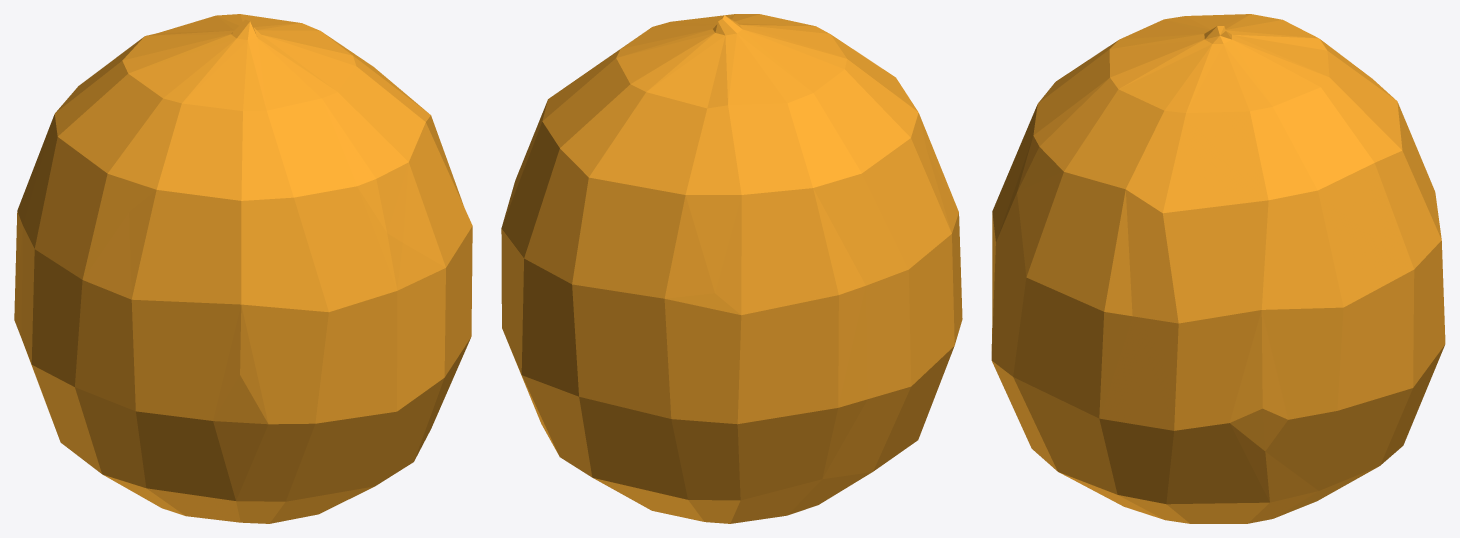
Rendered from SM_Watermelon_A.fbx.
3 renders of one model, left to right at view 1: azimuth 30°, elevation 25°; view 2: azimuth 150°, elevation 25°; view 3: azimuth 270°, elevation 25°, orthographic.
Visible parts, largest first — view 1: watermelon-a; view 2: watermelon-a; view 3: watermelon-a.
Boxes of the visible parts, <box> form: watermelon-a: <box>14,14,472,523</box>; watermelon-a: <box>501,14,962,523</box>; watermelon-a: <box>991,14,1445,523</box>.
Bounding box in the file's own units: 0.3941 × 0.4559 × 0.3949.
